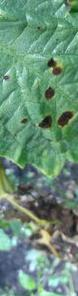Tomato Early blight leaf: (0, 0, 78, 161)
